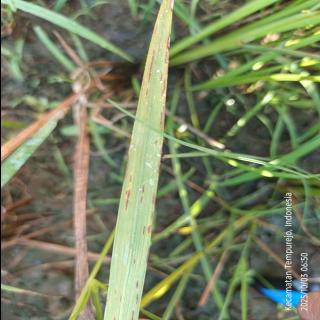Bercak-Cokelat-Sempit: (146, 49, 155, 84), (157, 74, 166, 101), (122, 187, 130, 213), (138, 179, 146, 204), (157, 110, 163, 129), (133, 291, 139, 306), (143, 85, 149, 100), (129, 308, 136, 320), (145, 222, 151, 236), (150, 190, 155, 206), (117, 292, 123, 305), (132, 279, 139, 289), (131, 256, 137, 266), (140, 224, 145, 236), (110, 314, 117, 320)
